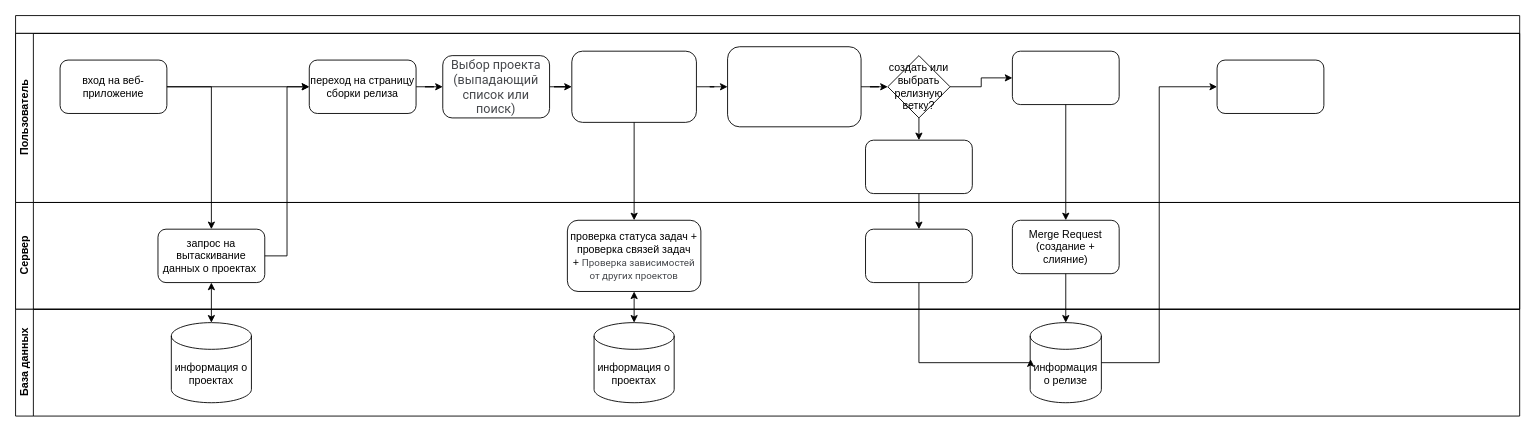
Some shapes in this 1535 by 432 pixel diagram are drawn without their labels. The shapes that lost their labels are listed below. From the top down, each one's centre as x and y in pixels, then its label:
the point at 633,86: Выбор релизной задачи (выпадающий список или поиск)
the point at 794,86: Выбор ветки, из которой будет создана релизная ветка (выпадающий список)
the point at 1065,77: Создание релизной ветки
the point at 1270,86: страница релиза
the point at 918,166: Выбрать релизную ветку
the point at 918,255: Merge Request (слияние)
